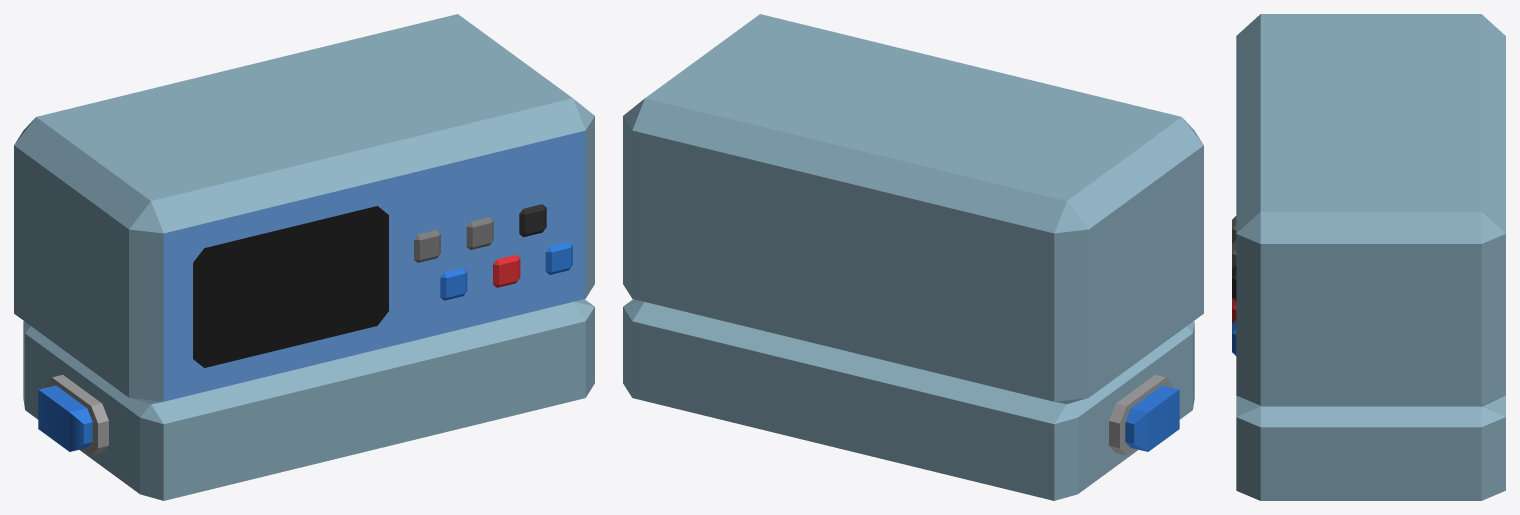
The model's file is Infusion Pump 01.fbx.
3 views of the same model, side by side, from view 1: azimuth 30°, elevation 25°; view 2: azimuth 150°, elevation 25°; view 3: azimuth 270°, elevation 25° (orthographic). The views are drawn at different scales.
Visible parts, largest first — view 1: Infusion_Pump_01; view 2: Infusion_Pump_01; view 3: Infusion_Pump_01.
Boxes of the visible parts, box(x1,y1,x2,y2) form: Infusion_Pump_01: box(14, 14, 594, 500); Infusion_Pump_01: box(623, 14, 1203, 500); Infusion_Pump_01: box(1232, 14, 1505, 500).
Bounding box in the file's own units: 61.14 × 35.12 × 31.25.
